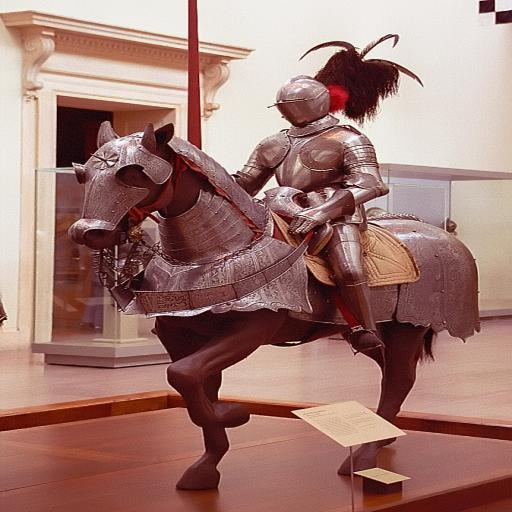horse: (62, 120, 481, 488)
